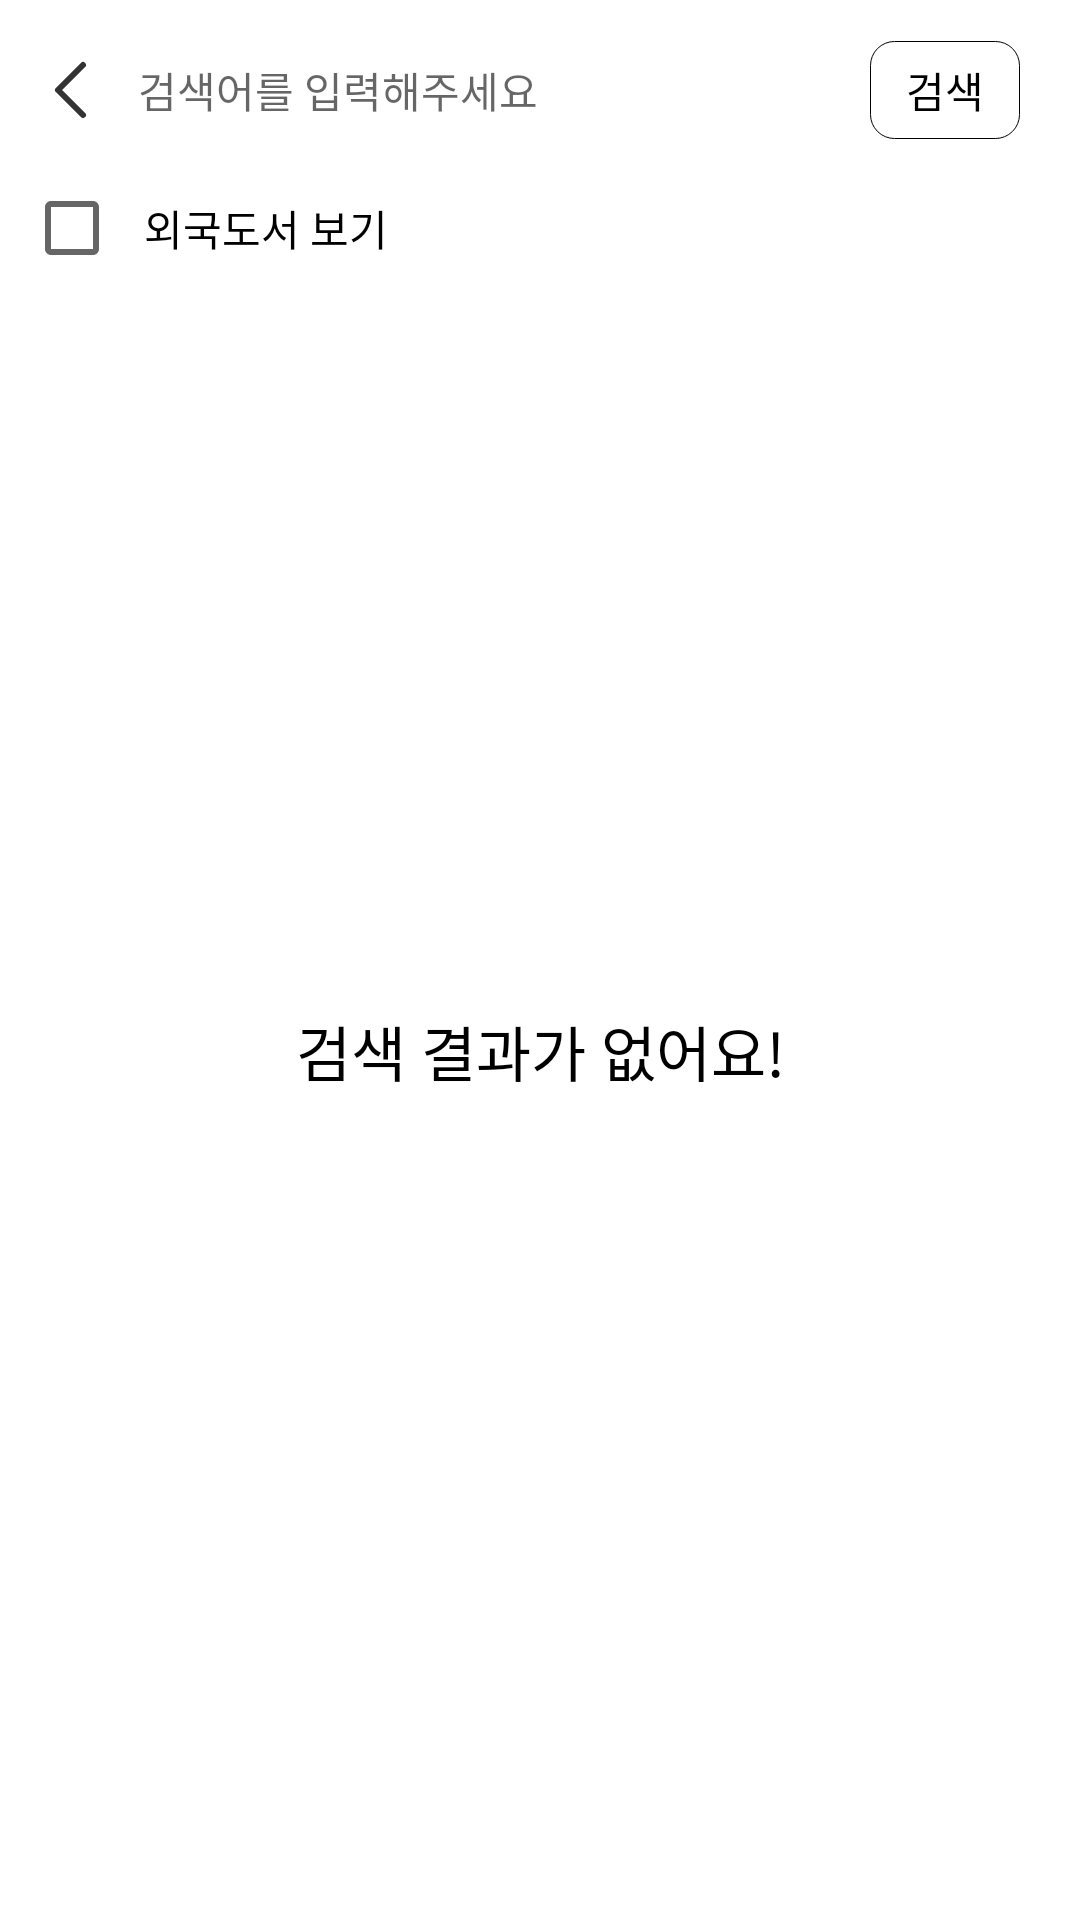

Icon bounding boxes for this 1080 × 1920 phone screenshot, format [x1, y1, x2, y2]:
title back: [55, 61, 86, 118]
